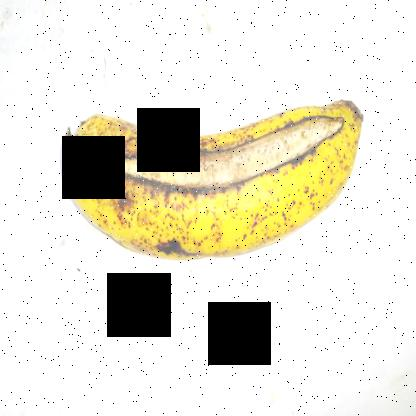rotten: (103, 99, 351, 206)
